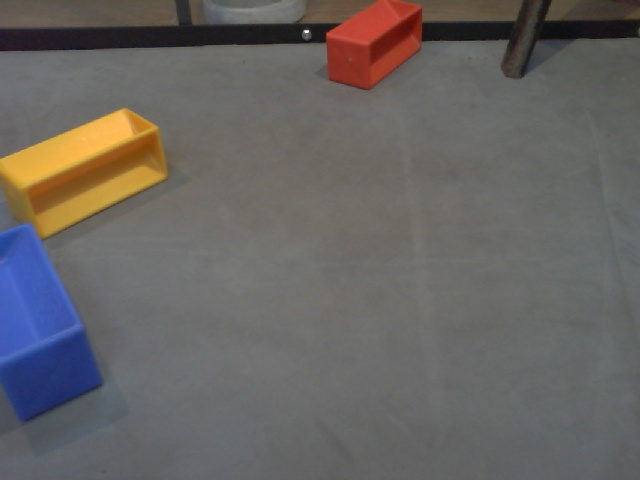BlueSample: (1, 224, 102, 426)
RedSample: (323, 1, 424, 95)
YellowSample: (1, 104, 172, 241)
